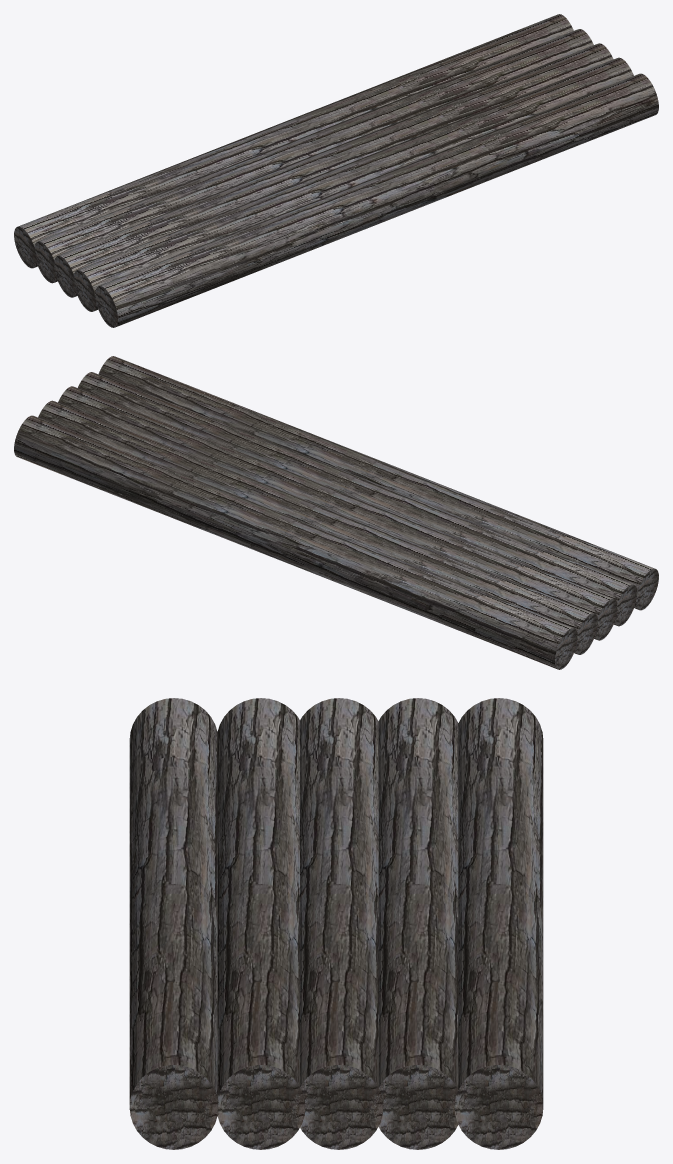
File: Bridge2.gltf
The picture shows the model from 3 angles, top to bottom: view 1: azimuth 30°, elevation 25°; view 2: azimuth 150°, elevation 25°; view 3: azimuth 270°, elevation 25°; orthographic projection. The views are drawn at different scales.
Parts seen in each view (by area): view 1: 橋; view 2: 橋; view 3: 橋.
Part boxes in pixels (x1,y1,x2,y2): 橋: (14, 14, 658, 327); 橋: (14, 356, 658, 669); 橋: (129, 698, 543, 1149).
Size of the model in its own units: 14.18 by 2.99 by 4.65.
Materials: 5 (5 with a texture image).
